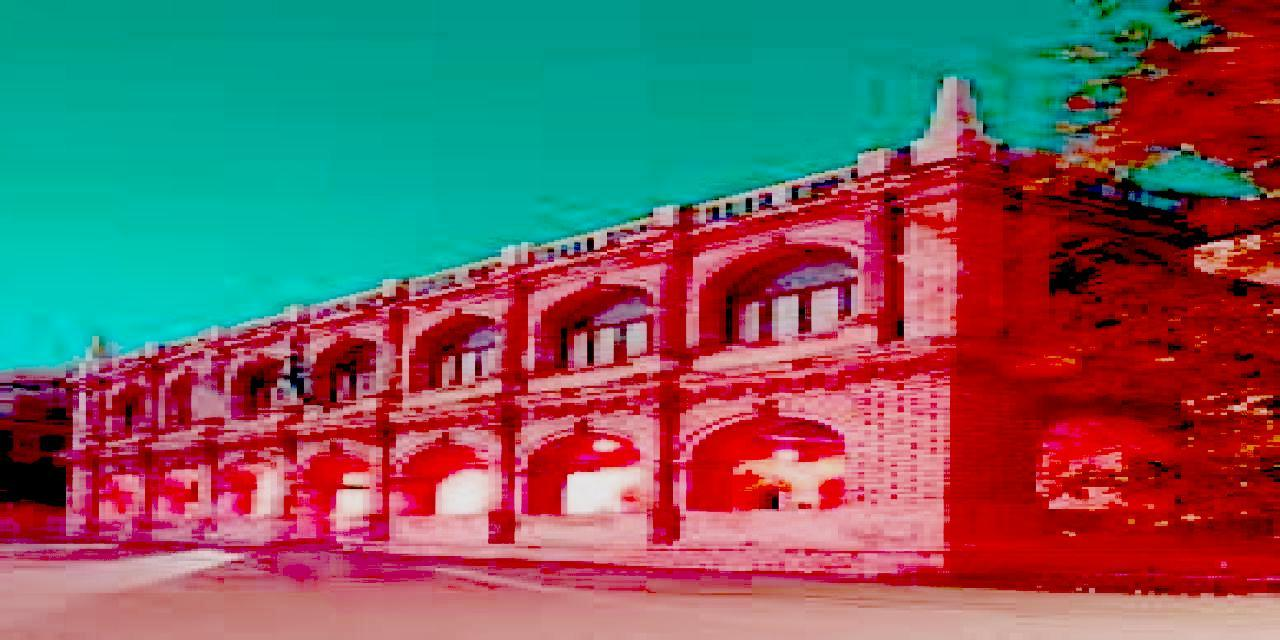Loggia: (45, 64, 1279, 577)
